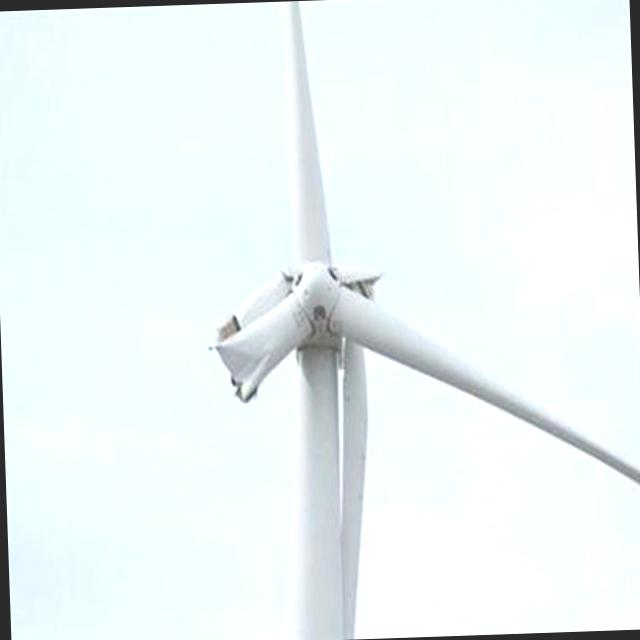crack: (180, 245, 406, 456)
